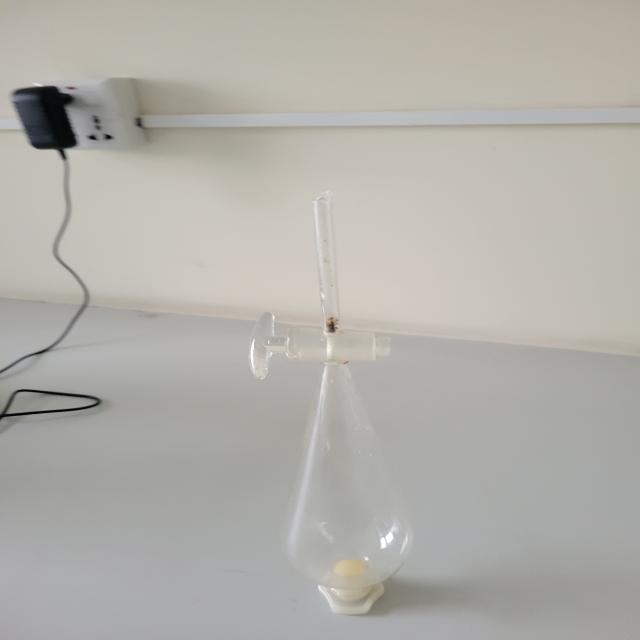Separating_Funnel: (242, 166, 453, 636)
